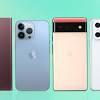Smartphone: (14, 17, 49, 91), (51, 15, 86, 88)
